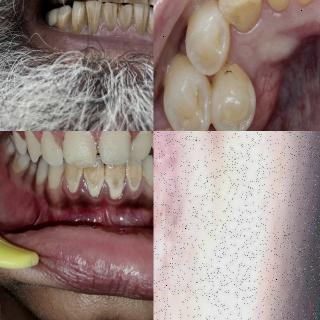Gum Swelling: (35, 175, 154, 205)
calculus: (106, 174, 125, 198), (86, 174, 102, 198), (64, 170, 80, 192), (128, 171, 142, 193), (10, 157, 23, 177)
maligned: (200, 63, 266, 131)
plaque: (112, 11, 126, 31)
